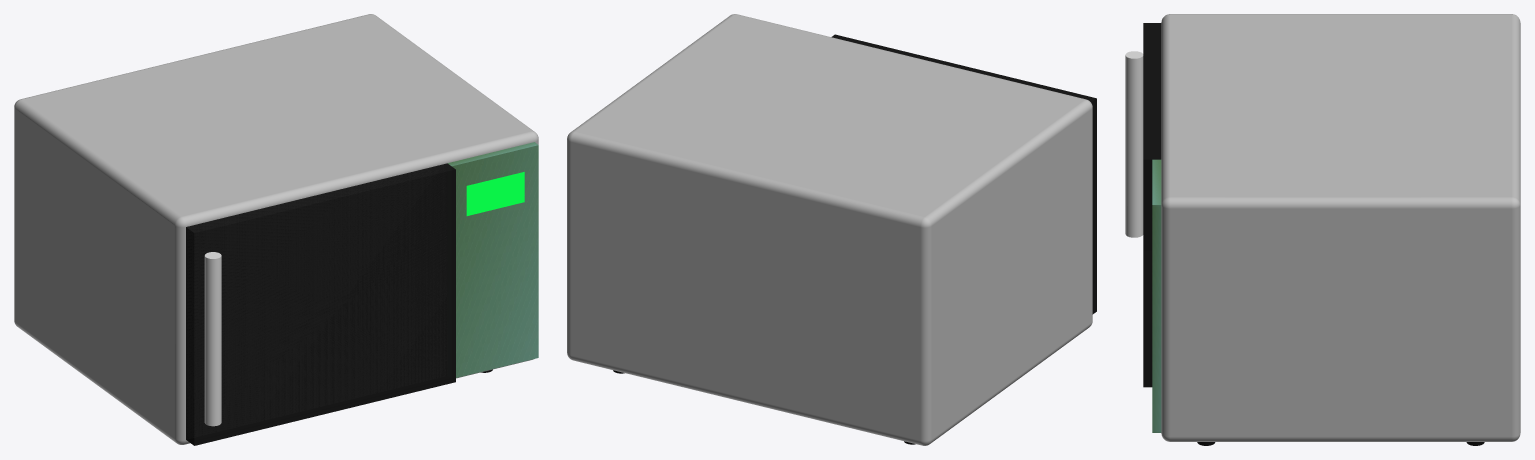
Rendered from state-default.glb.
3 views of the same model, side by side, from view 1: azimuth 30°, elevation 25°; view 2: azimuth 150°, elevation 25°; view 3: azimuth 270°, elevation 25° (orthographic). The views are drawn at different scales.
Parts seen in each view (by area): view 1: assetPrim:e504c978d237c-19c73e648dc:mw-body, assetPrim:e504c978d237c-19c73e648dc:mw-door, assetPrim:e504c978d237c-19c73e648dc:mw-panel, assetPrim:e504c978d237c-19c73e648dc:mw-handle, assetPrim:e504c978d237c-19c73e648dc:mw-display; view 2: assetPrim:e504c978d237c-19c73e648dc:mw-body, assetPrim:e504c978d237c-19c73e648dc:mw-door; view 3: assetPrim:e504c978d237c-19c73e648dc:mw-body, assetPrim:e504c978d237c-19c73e648dc:mw-door, assetPrim:e504c978d237c-19c73e648dc:mw-handle, assetPrim:e504c978d237c-19c73e648dc:mw-panel.
Part boxes in pixels (x1,y1,x2,y2): assetPrim:e504c978d237c-19c73e648dc:mw-body: (14,14,538,444); assetPrim:e504c978d237c-19c73e648dc:mw-door: (186,163,455,445); assetPrim:e504c978d237c-19c73e648dc:mw-panel: (448,142,538,377); assetPrim:e504c978d237c-19c73e648dc:mw-handle: (204,252,221,426); assetPrim:e504c978d237c-19c73e648dc:mw-display: (466,172,524,215); assetPrim:e504c978d237c-19c73e648dc:mw-body: (567,14,1092,445); assetPrim:e504c978d237c-19c73e648dc:mw-door: (831,34,1096,314); assetPrim:e504c978d237c-19c73e648dc:mw-body: (1161,14,1520,441); assetPrim:e504c978d237c-19c73e648dc:mw-door: (1143,23,1161,387); assetPrim:e504c978d237c-19c73e648dc:mw-handle: (1125,51,1143,237); assetPrim:e504c978d237c-19c73e648dc:mw-panel: (1152,159,1161,432).
Size of the model in its own units: 0.5 by 0.32 by 0.44.
9 materials, 1 textured.
